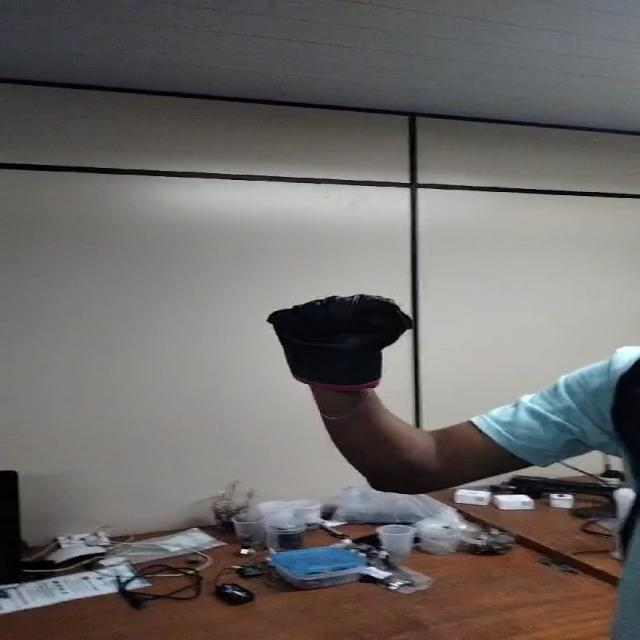Gloves: (275, 294, 413, 387)
